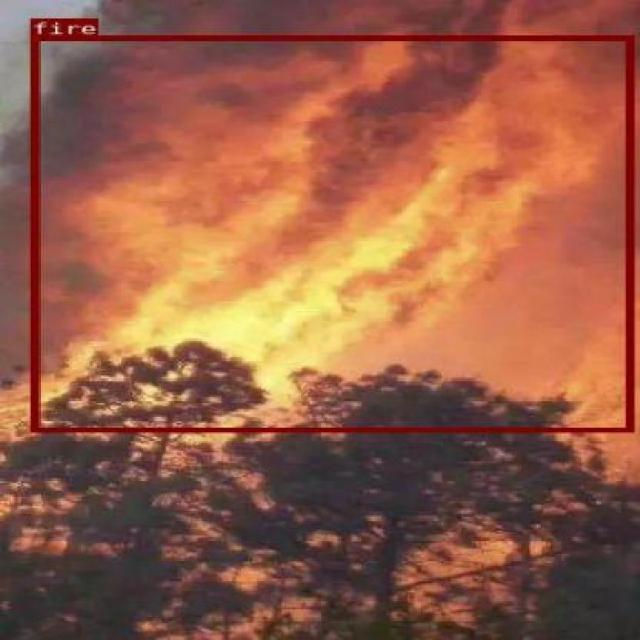Fire: (331, 233, 603, 397)
